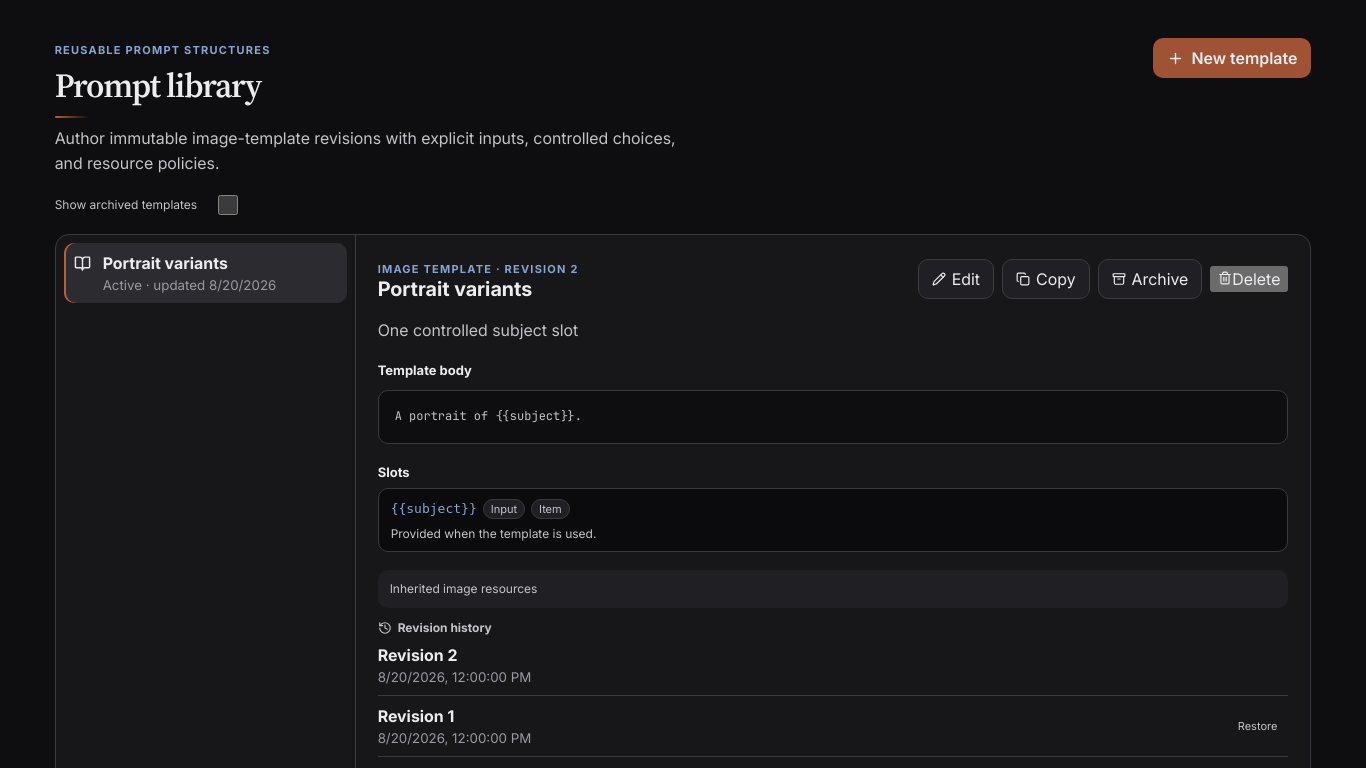
Prompt Library › starts each new template unnamed and requires an intentional name
Expected: the heading "Portrait variants" is shown, x1=378 y1=277 x2=532 y2=301
Click the button "New template".
click(1232, 58)  # box x1=1152 y1=38 x2=1311 y2=78
(page scrolled)
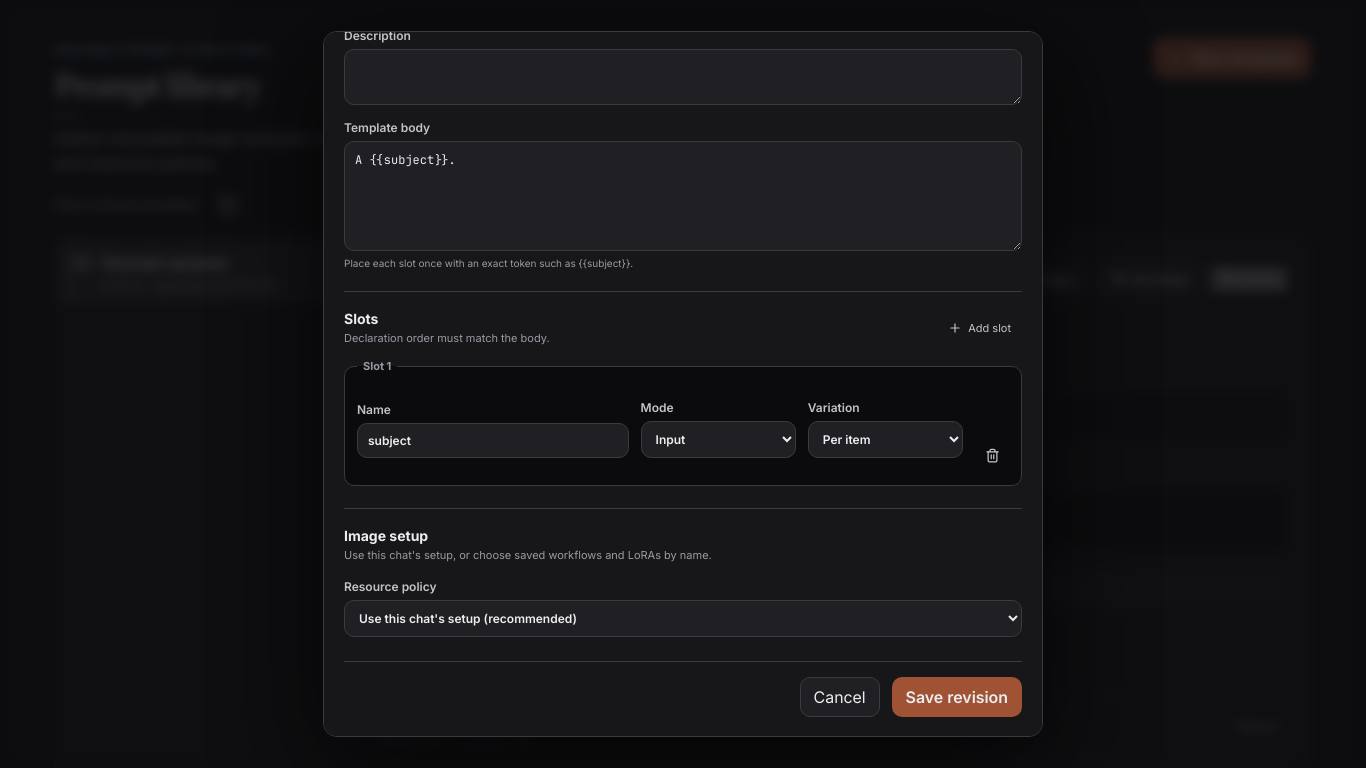
Click the button "Save revision".
click(957, 697)  # box x1=892 y1=677 x2=1022 y2=717
(page scrolled)
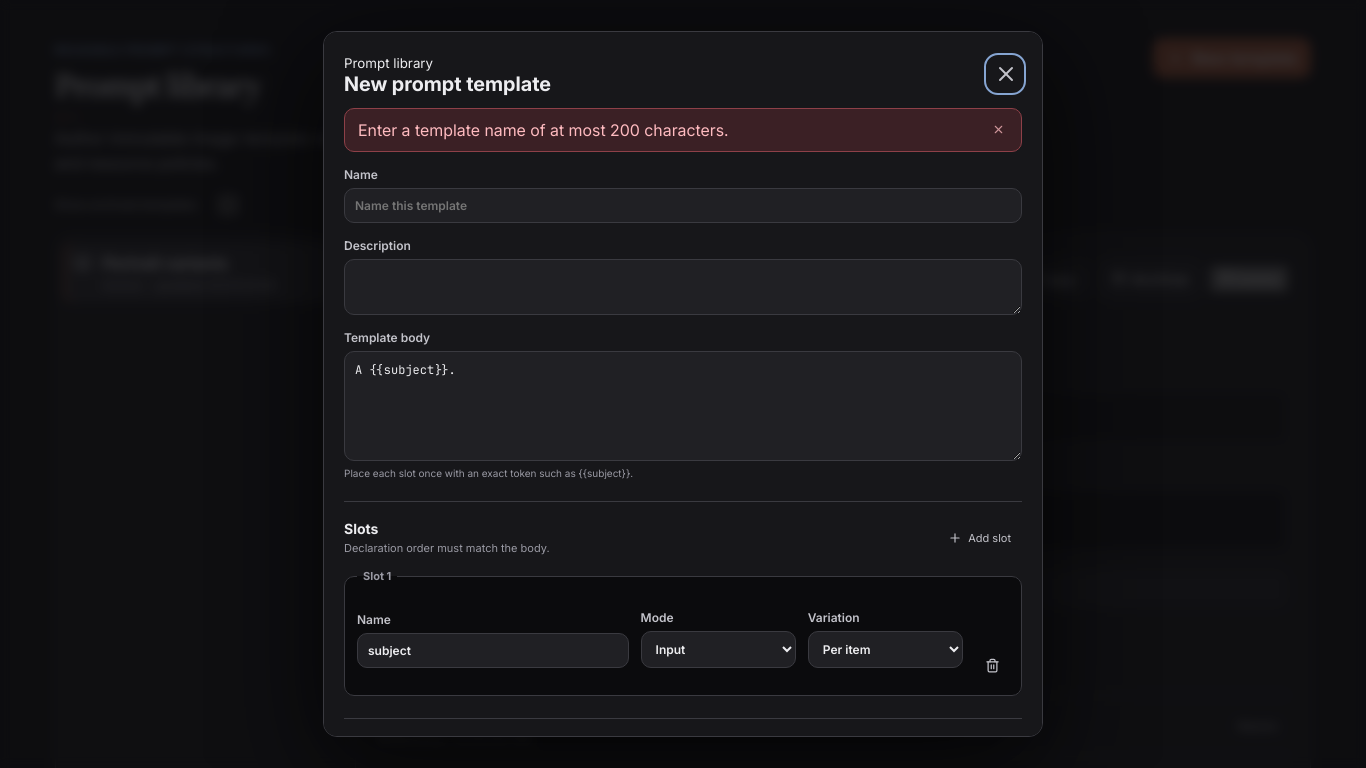
Now the text "Enter a template name of at most 200 characters." is shown, box x1=358 y1=120 x2=729 y2=140
